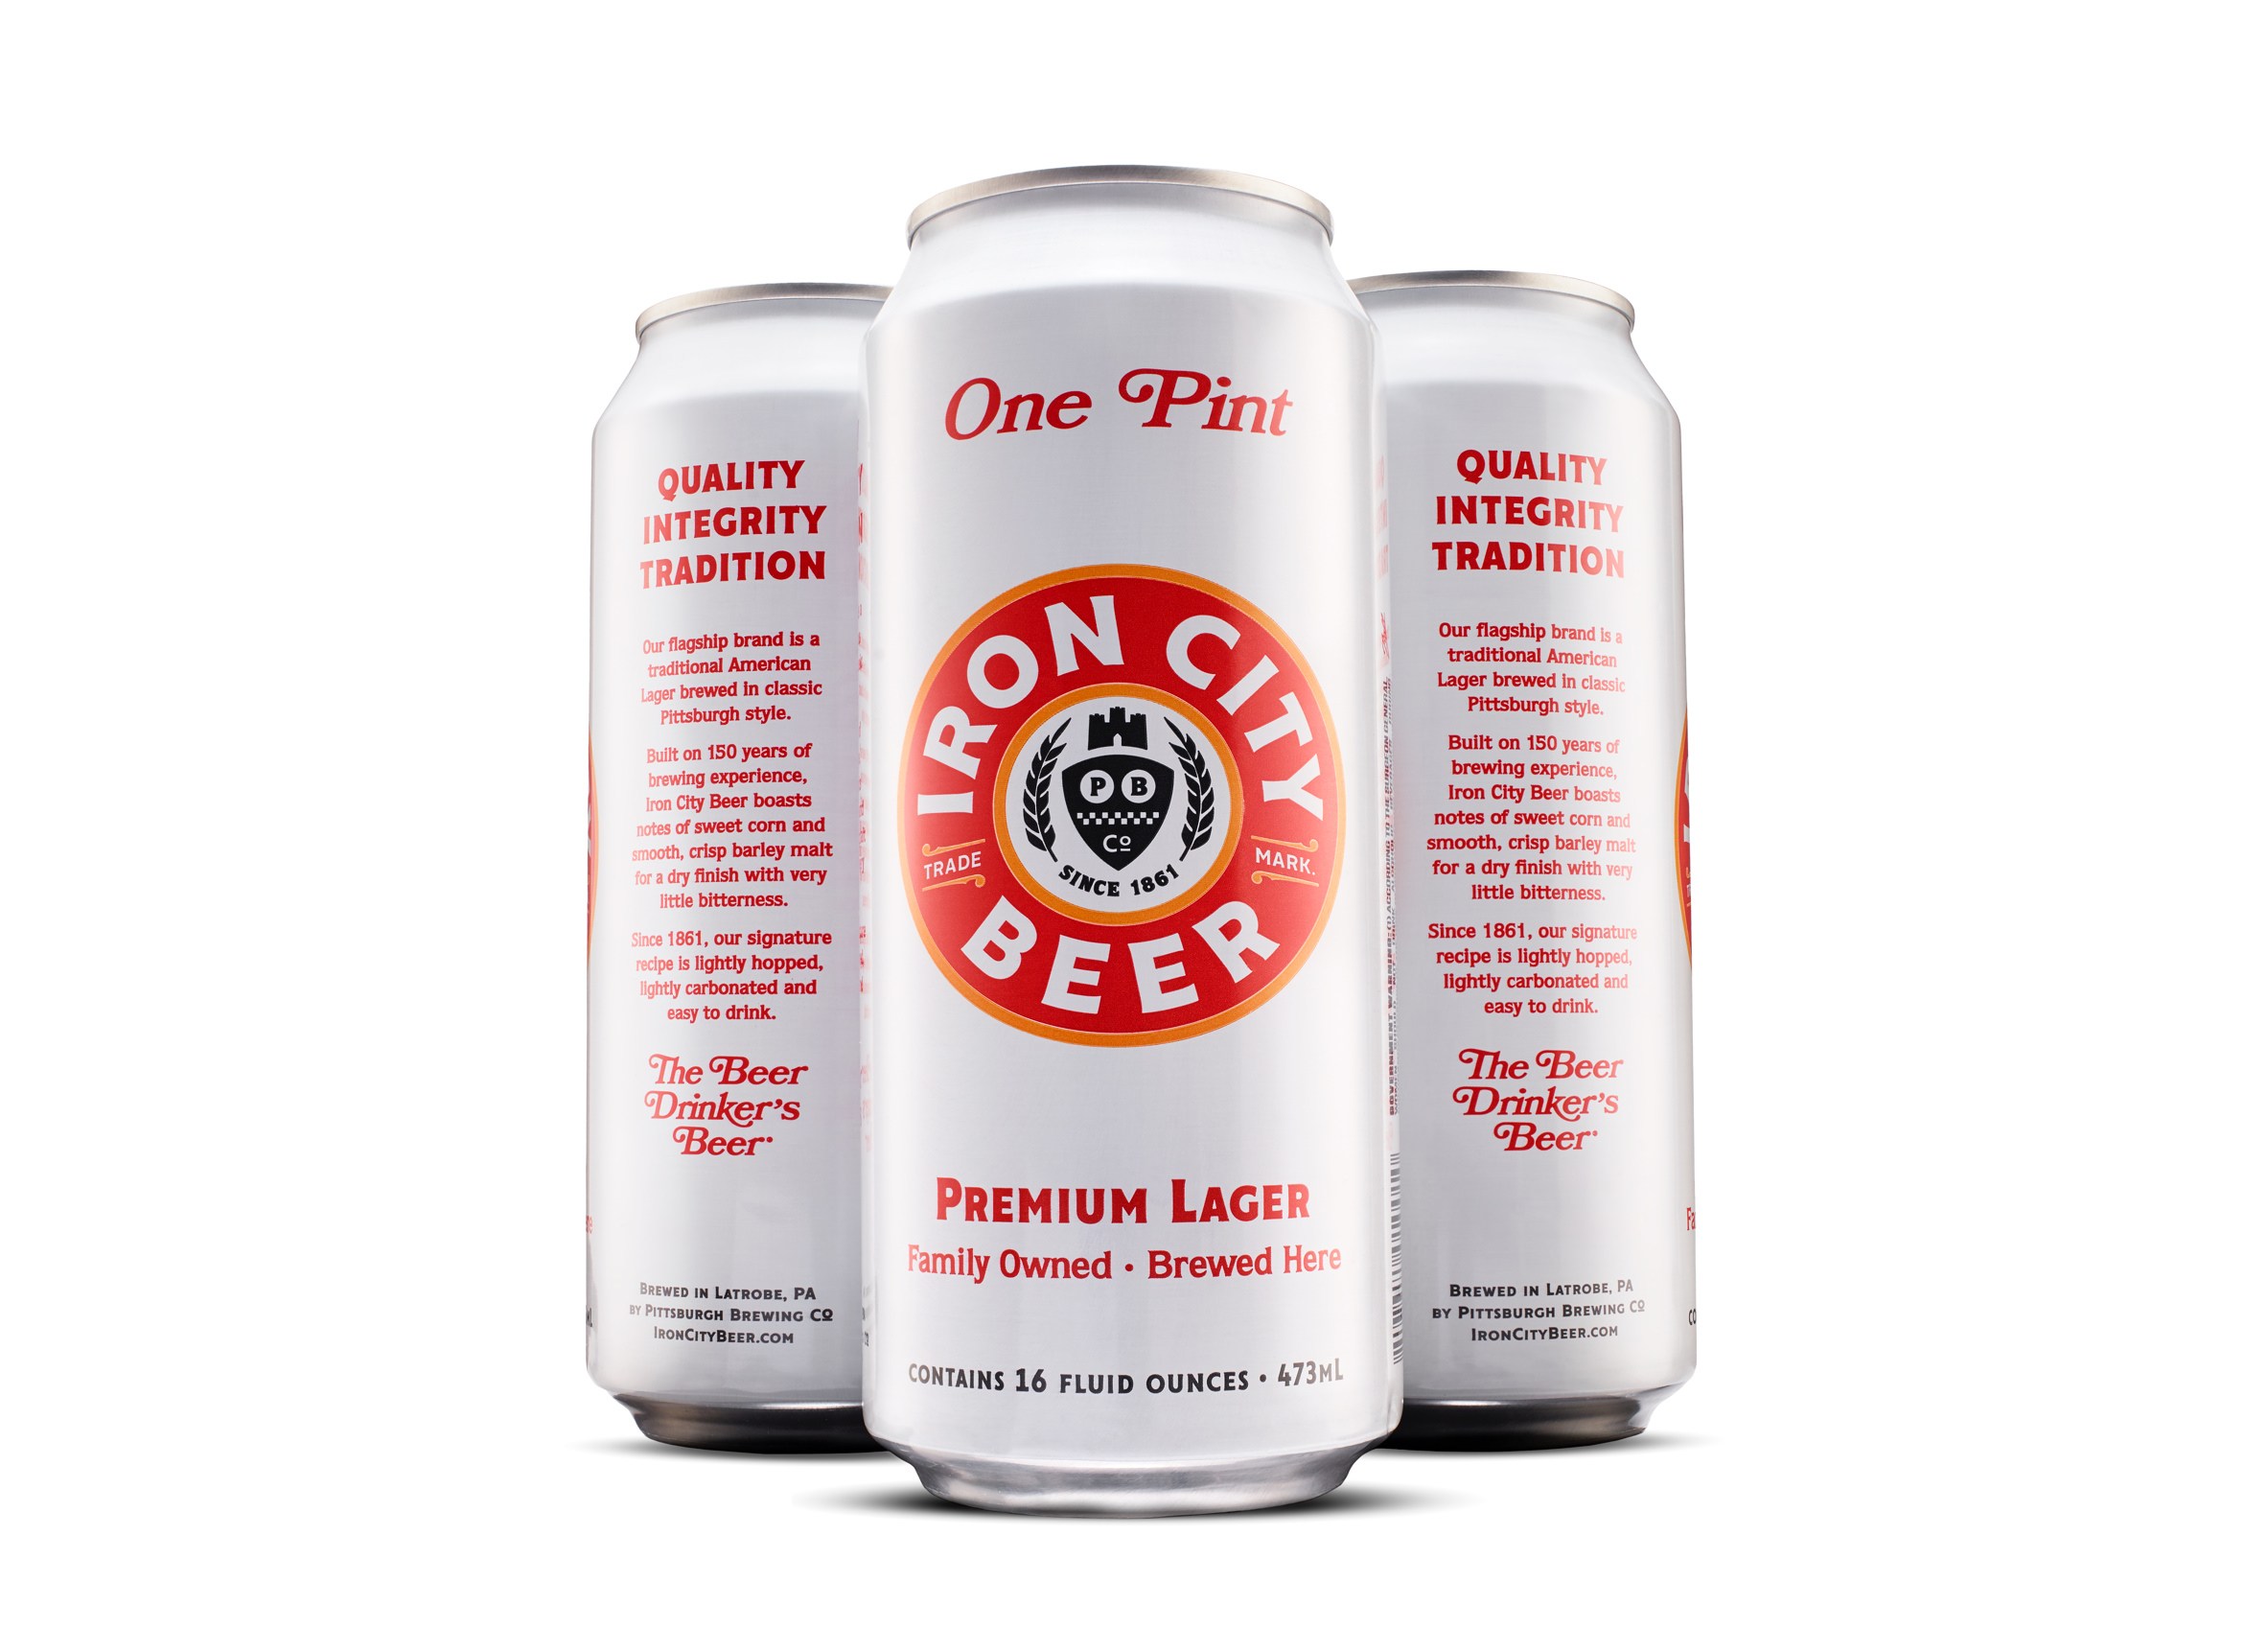beer can: (858, 167, 1405, 1512), (1340, 278, 1701, 1452), (595, 275, 914, 1445)
